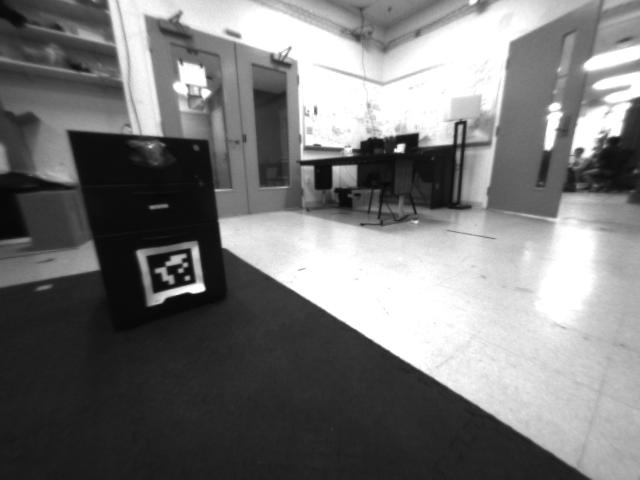door_handle: (223, 136, 242, 150)
drawer: (117, 135, 179, 179)
